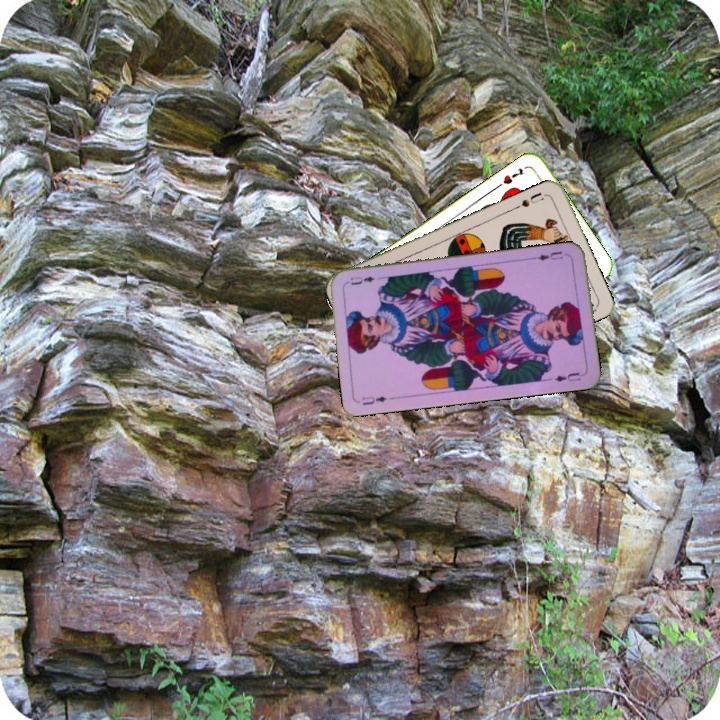EU: (530, 247, 571, 263), (358, 392, 389, 408)
H7: (499, 164, 527, 187)
SU: (511, 188, 546, 212)
